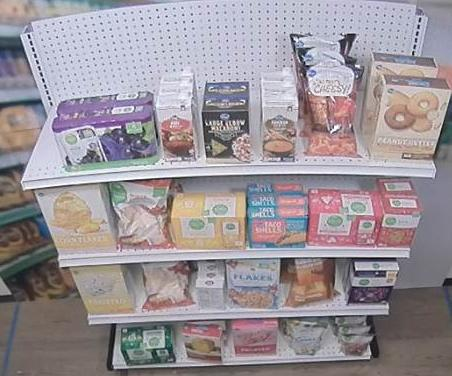stockout: (19, 108, 62, 177)
